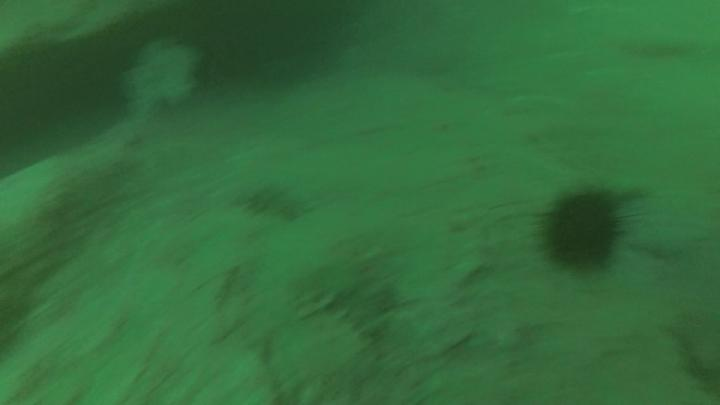echinus: (539, 184, 621, 277)
